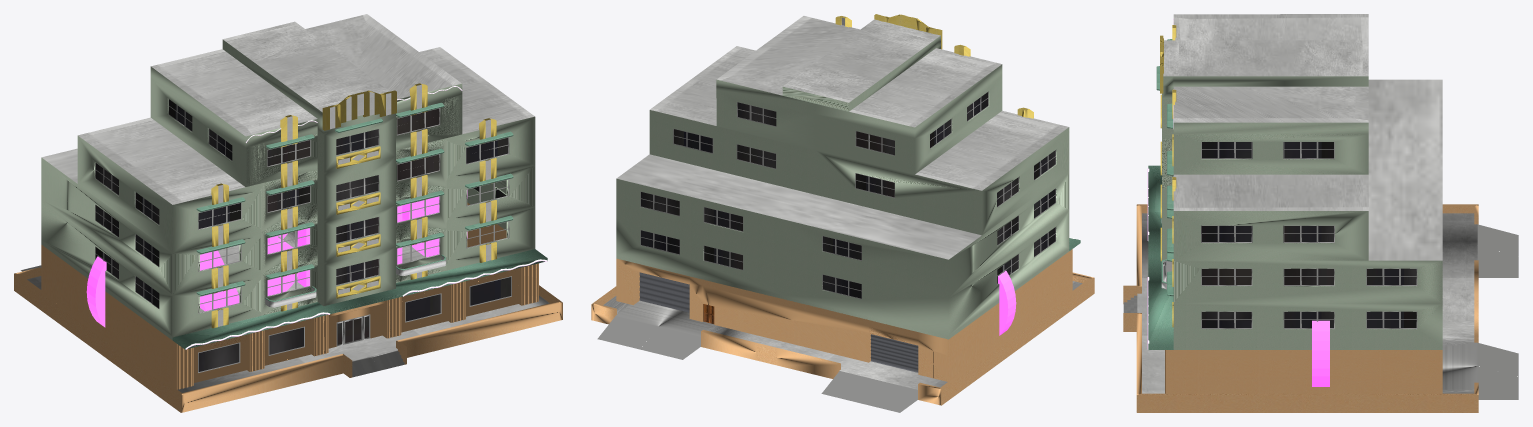
Rendered from vegas_casino.glb.
3 views of the same model, side by side, from view 1: azimuth 30°, elevation 25°; view 2: azimuth 150°, elevation 25°; view 3: azimuth 270°, elevation 25° (orthographic). The views are drawn at different scales.
Parts seen in each view (by area): view 1: casino_building, casino_sign; view 2: casino_building, casino_sign; view 3: casino_building, casino_sign.
Part boxes in pixels (x1=…): casino_building: x1=14, y1=14, x2=562, y2=412; casino_sign: x1=86, y1=190, x2=467, y2=327; casino_building: x1=591, y1=14, x2=1094, y2=412; casino_sign: x1=998, y1=270, x2=1016, y2=335; casino_building: x1=1123, y1=14, x2=1518, y2=412; casino_sign: x1=1312, y1=320, x2=1329, y2=386.
Size of the model in its own units: 3 by 1.98 by 2.62.
20 materials, 18 textured.
